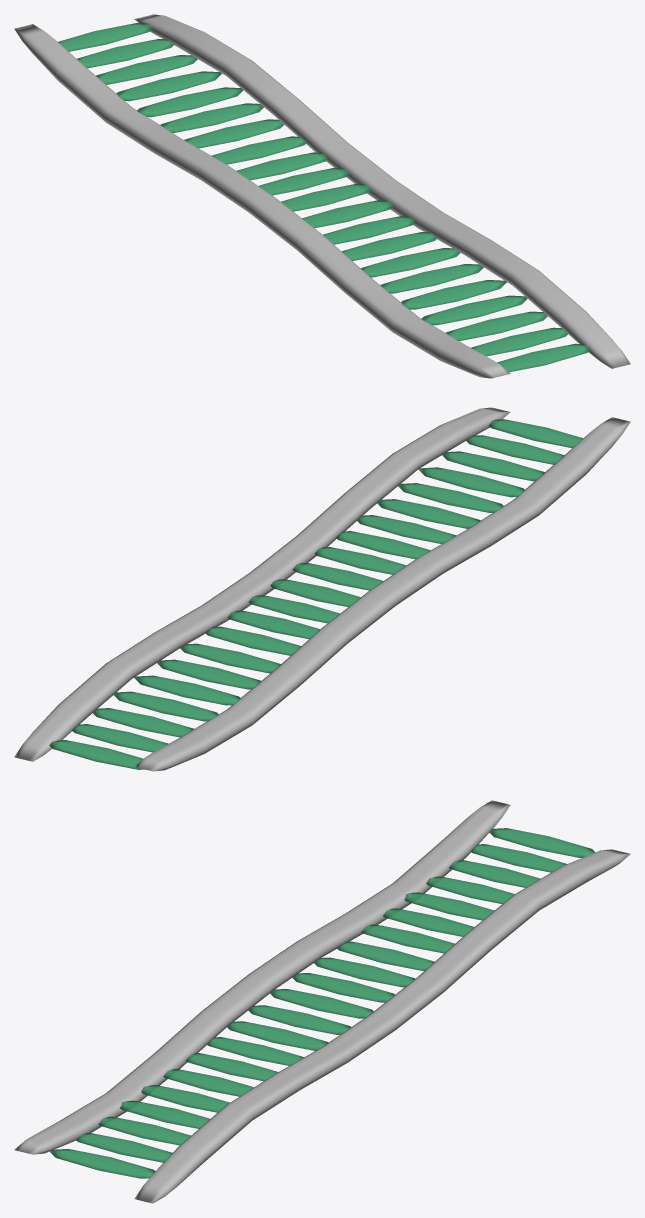
File: ocarina track.fbx
3 renders of one model, top to bottom at view 1: azimuth 30°, elevation 25°; view 2: azimuth 150°, elevation 25°; view 3: azimuth 330°, elevation 25°, orthographic.
Parts seen in each view (by area): view 1: pCube1, pasted__pCube1, pasted__pasted__pCube2 (×10), pasted__pCube2 (×9), pasted__pasted__pasted__pCube2, pCube2; view 2: pCube1, pasted__pCube1, pasted__pasted__pCube2 (×10), pasted__pCube2 (×9), pCube2, pasted__pasted__pasted__pCube2; view 3: pasted__pCube1, pCube1, pasted__pasted__pCube2 (×10), pasted__pCube2 (×9), pCube2, pasted__pasted__pasted__pCube2.
Part boxes in pixels (box(x1,y1,x2,y2)): pCube1: box(14, 24, 510, 378); pasted__pCube1: box(134, 14, 630, 368); pasted__pasted__pCube2 (×10): box(58, 23, 527, 325); pasted__pCube2 (×9): box(137, 87, 568, 356); pasted__pasted__pasted__pCube2: box(77, 39, 173, 68); pCube2: box(497, 343, 590, 372); pCube1: box(134, 417, 630, 771); pasted__pCube1: box(14, 407, 510, 761); pasted__pasted__pCube2 (×10): box(49, 467, 524, 769); pasted__pCube2 (×9): box(134, 435, 564, 705); pCube2: box(488, 419, 582, 447); pasted__pasted__pasted__pCube2: box(72, 724, 168, 752); pasted__pCube1: box(134, 849, 630, 1203); pCube1: box(14, 800, 510, 1154); pasted__pasted__pCube2 (×10): box(120, 828, 595, 1128); pasted__pCube2 (×9): box(76, 892, 494, 1162); pCube2: box(49, 1149, 155, 1178); pasted__pasted__pasted__pCube2: box(470, 844, 566, 872).
Size of the model in its own units: 38.82 by 7.35 by 216.
